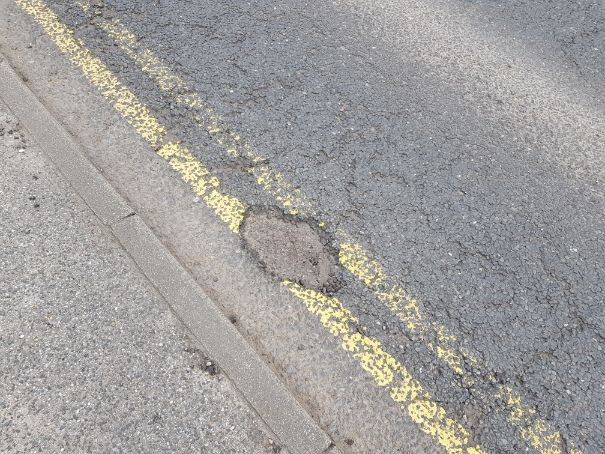pothole: (236, 200, 348, 300)
